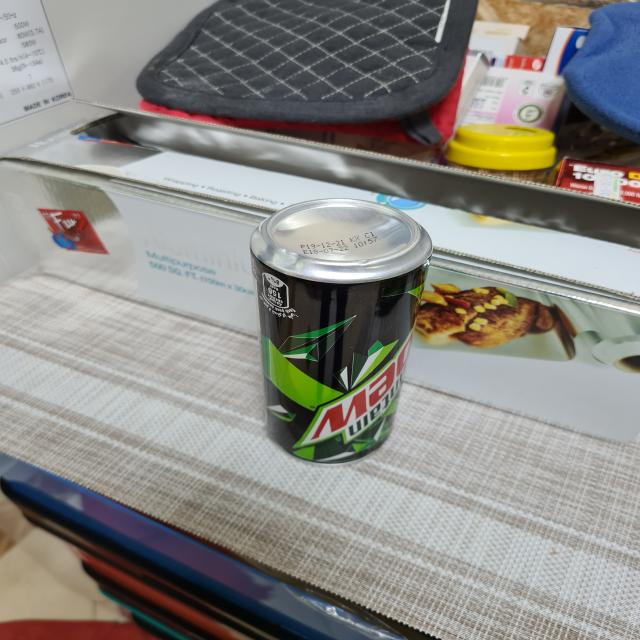non-organic waste: (244, 194, 432, 469)
